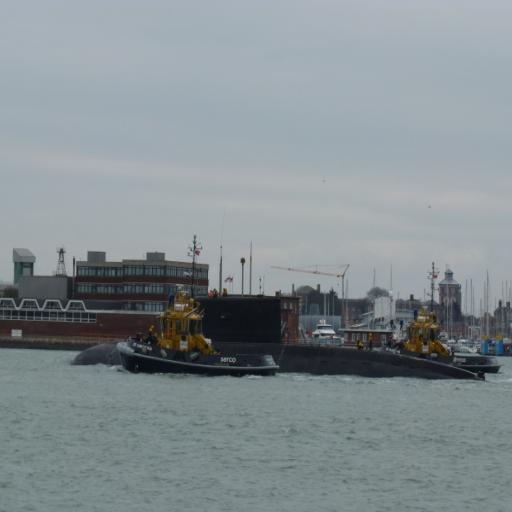submarine: (71, 295, 481, 364)
